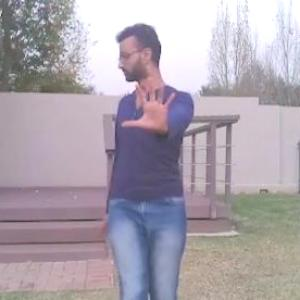follow_hand: (120, 73, 180, 134)
